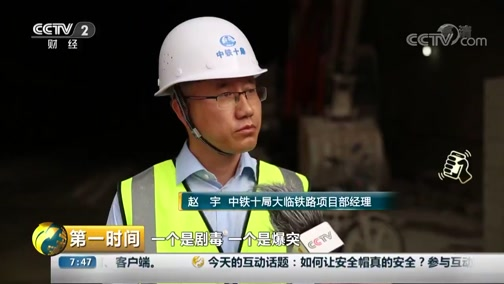helmet: (144, 22, 274, 94)
